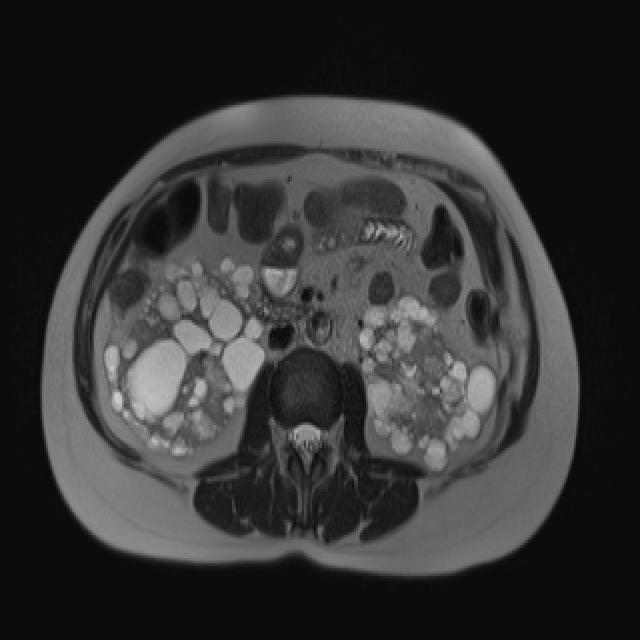sag: (102, 254, 265, 462)
sol: (354, 291, 500, 476)
